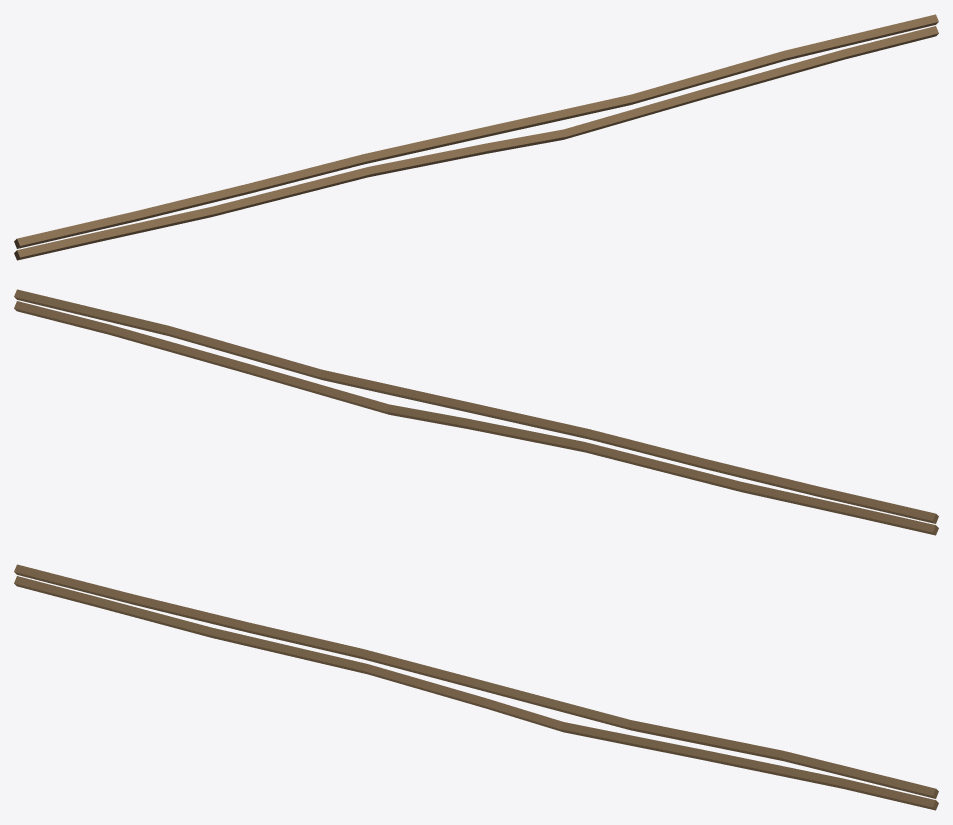
Rendered from SM_Prop_Wires_01.fbx.
3 views of the same model, one above another, from view 1: azimuth 30°, elevation 25°; view 2: azimuth 150°, elevation 25°; view 3: azimuth 330°, elevation 25° (orthographic).
Parts seen in each view (by area): view 1: SM_Prop_Wires_01; view 2: SM_Prop_Wires_01; view 3: SM_Prop_Wires_01.
Boxes of the visible parts, x1=… form: SM_Prop_Wires_01: x1=14, y1=14, x2=938, y2=260; SM_Prop_Wires_01: x1=14, y1=289, x2=938, y2=535; SM_Prop_Wires_01: x1=14, y1=564, x2=938, y2=810.
Size of the model in its own units: 250 by 9.17 by 2.85.
